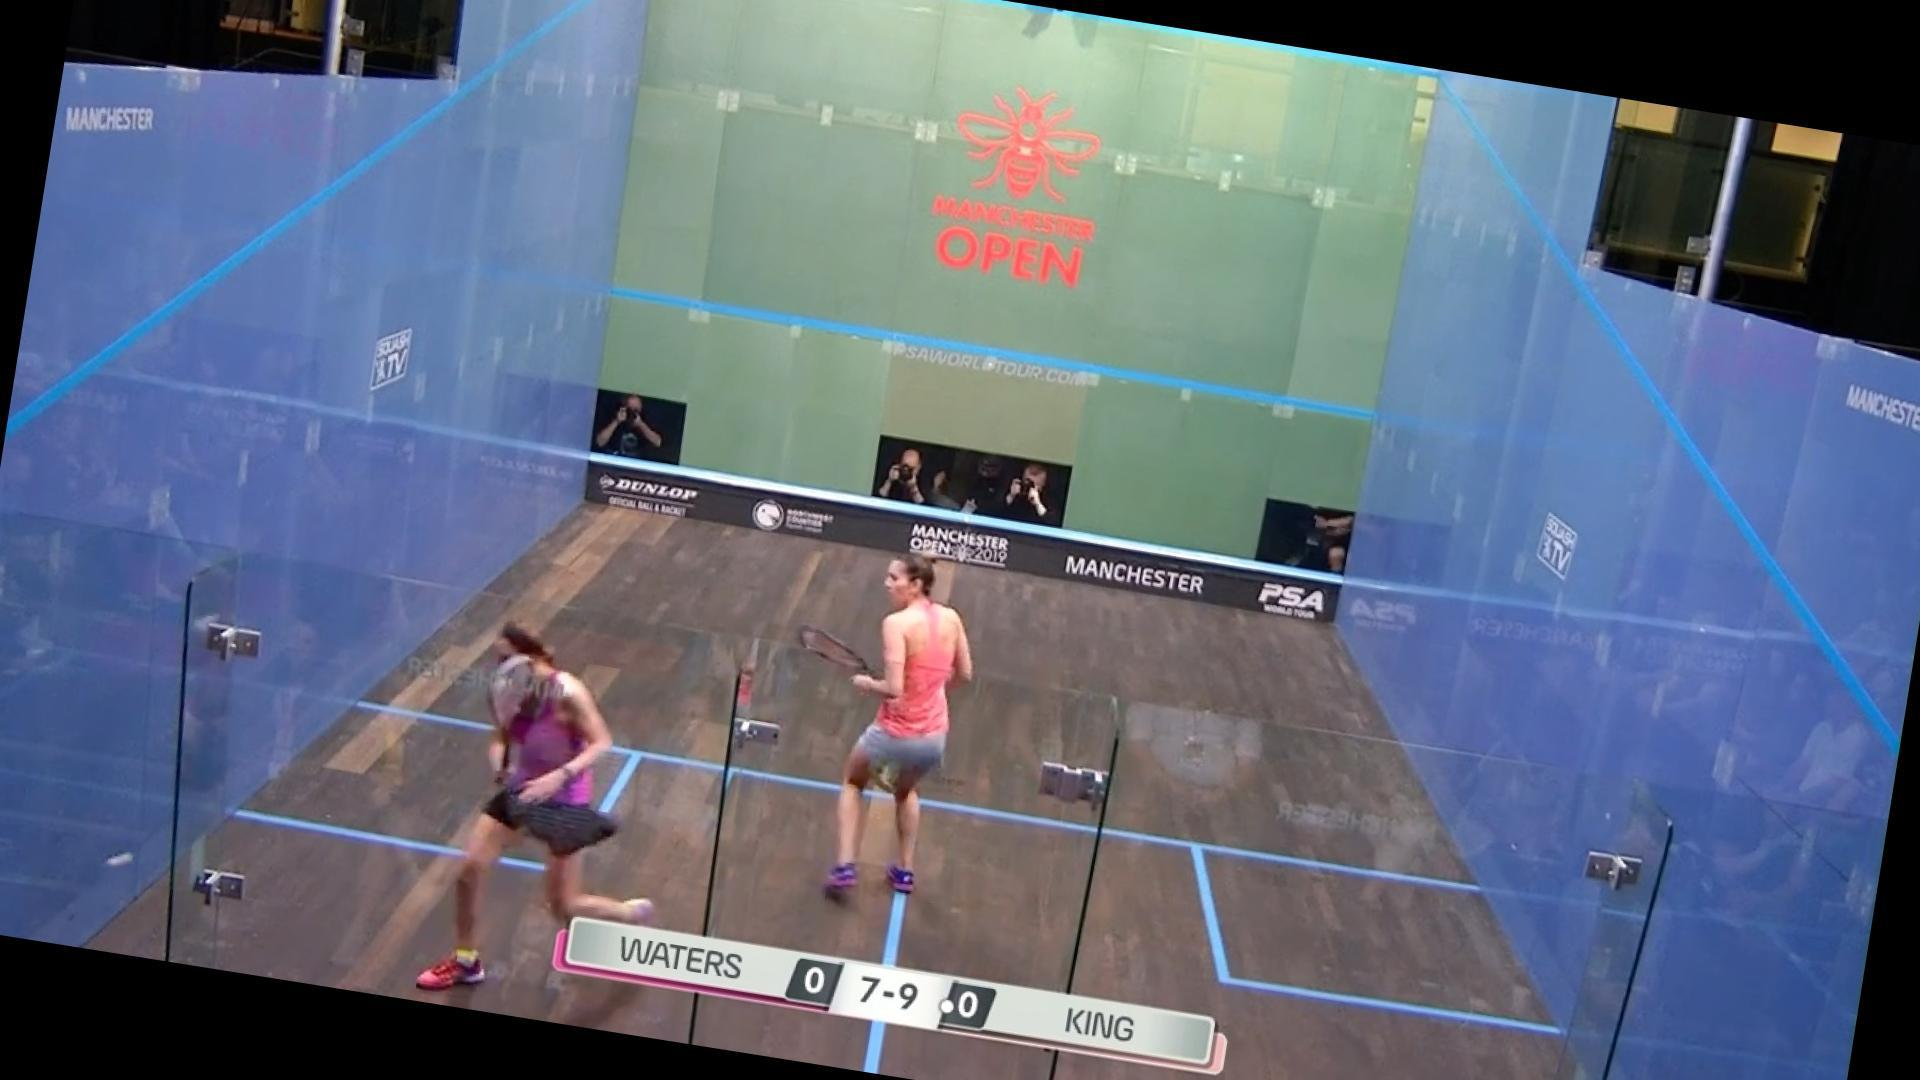Squash-Ball: (80, 828, 156, 893)
